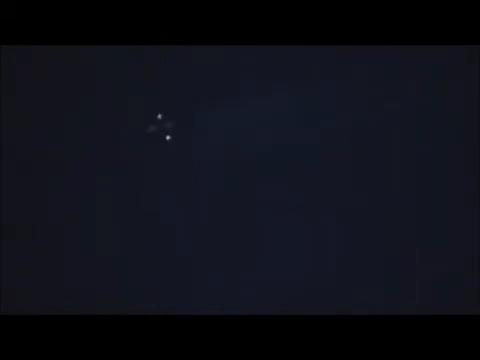Plane: (125, 103, 197, 152)
